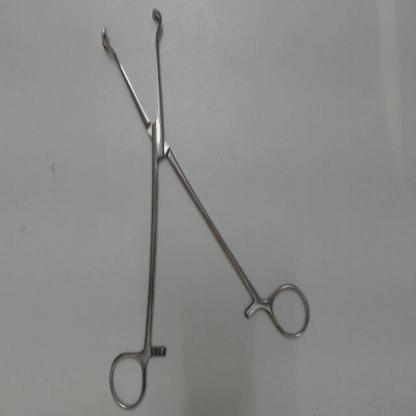8 Babcock Tissue Forceps: (93, 4, 312, 414)
